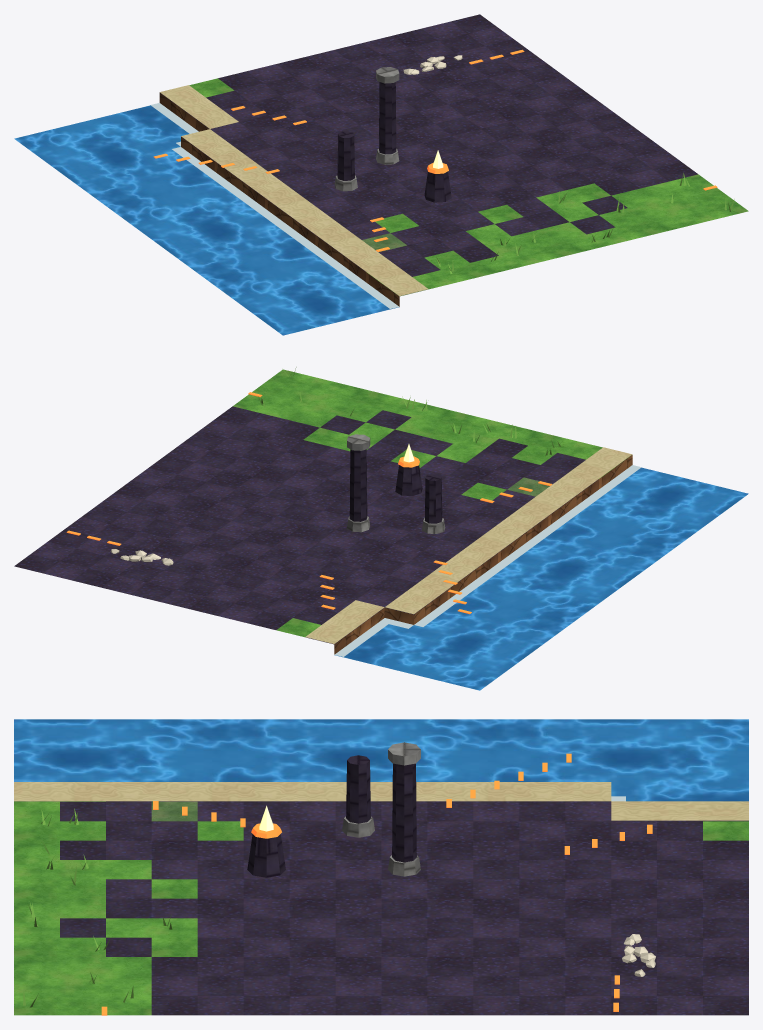
Rendered from chunk_4_23.glb.
3 renders of one model, top to bottom at view 1: azimuth 30°, elevation 25°; view 2: azimuth 150°, elevation 25°; view 3: azimuth 270°, elevation 25°, orthographic. The views are drawn at different scales.
Visible parts, largest first — view 1: chunk_4_23; view 2: chunk_4_23; view 3: chunk_4_23.
Part boxes in pixels (x1,y1,x2,y2): chunk_4_23: (14, 14, 748, 335); chunk_4_23: (14, 367, 748, 690); chunk_4_23: (14, 719, 748, 1015).
Size of the model in its own units: 16.02 by 3.24 by 16.
Materials: 15 (10 with a texture image).
